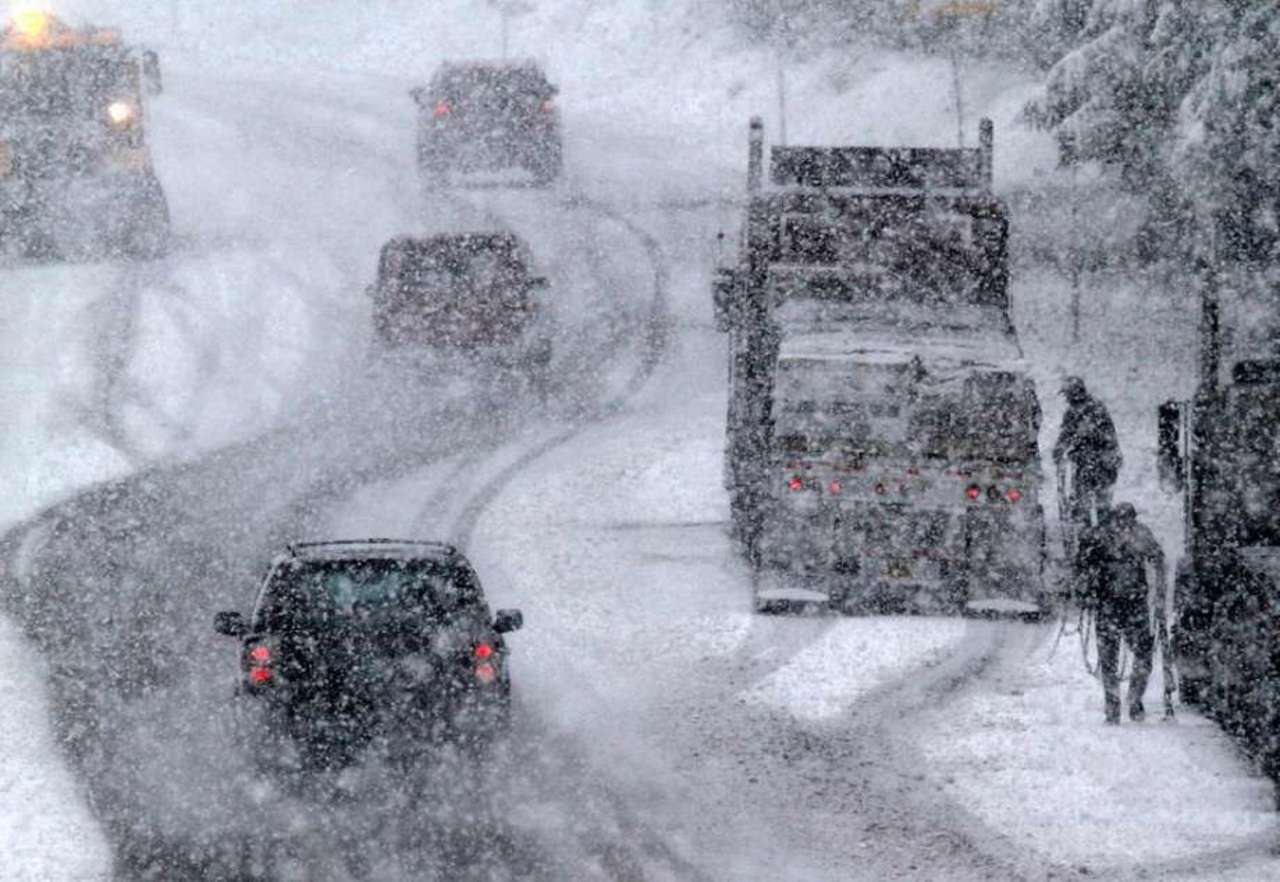car: (218, 540, 522, 779), (372, 233, 545, 381), (404, 52, 568, 187)
person: (1076, 493, 1176, 727), (1049, 375, 1118, 536)
truck: (719, 103, 1043, 620), (1166, 287, 1275, 781), (4, 12, 180, 272)
